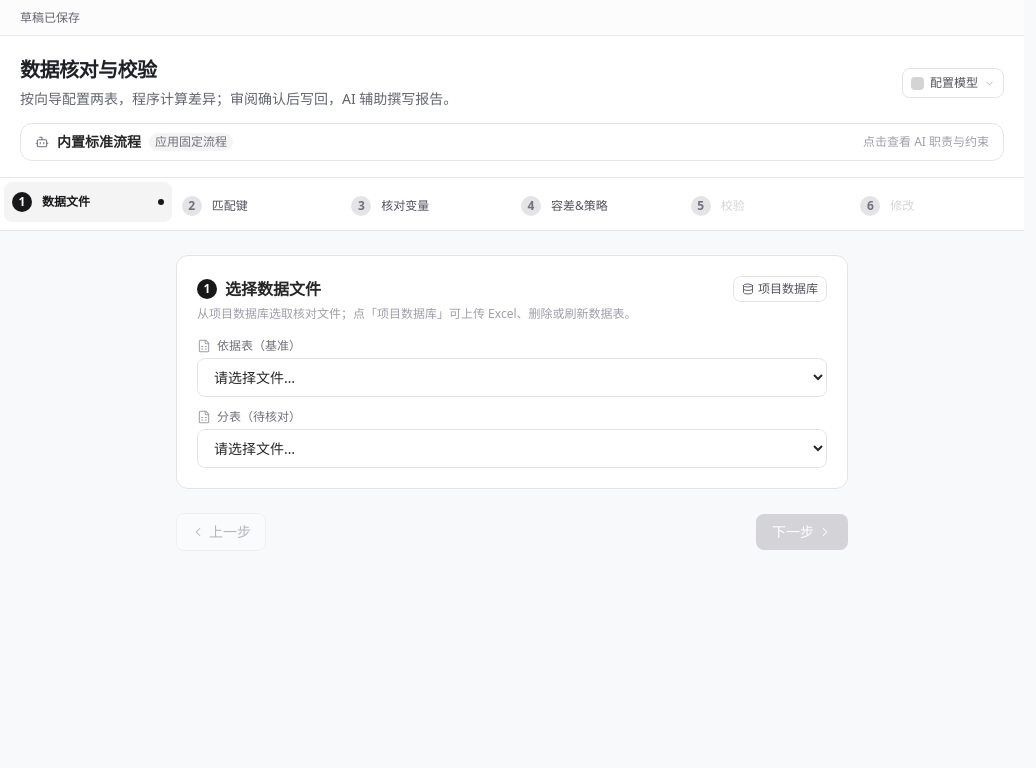
Scenario: reconciliation navigation uses the workspace initialized after the hidden project loads
Click the button "2 匹配键": (258, 206) [174,186,341,226]
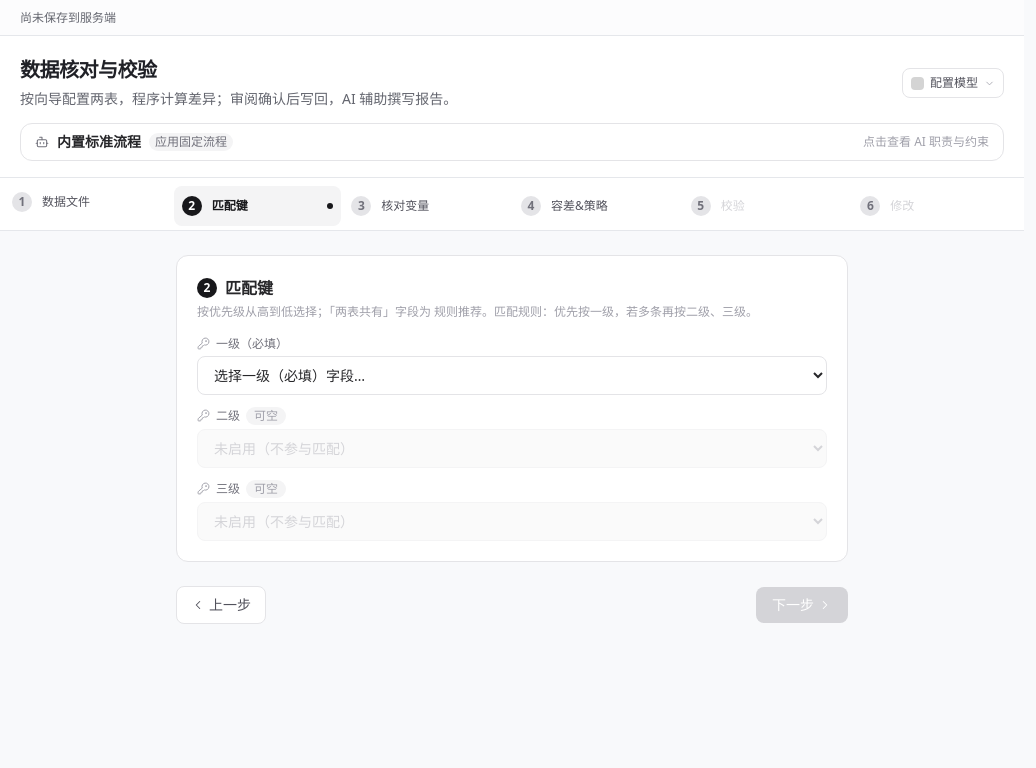
Check: the heading "匹配键" is shown, box [225,276,273,300]
